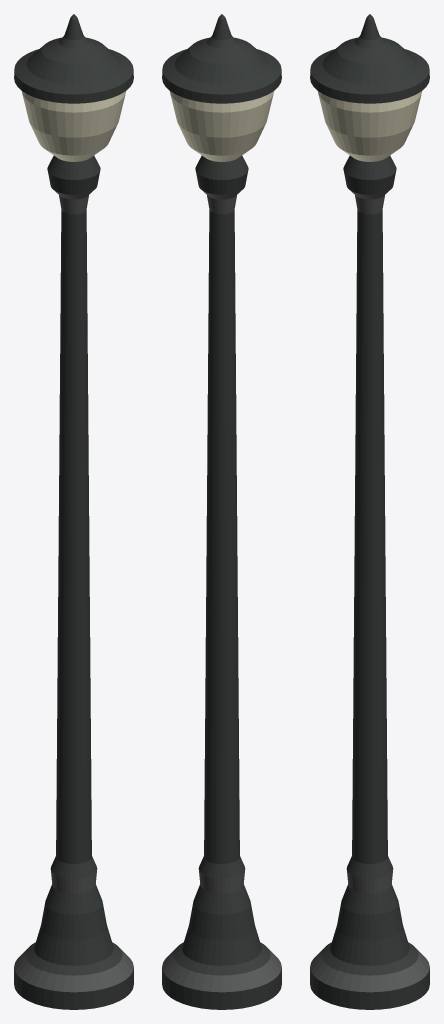
File: cast-lantern.glb
3 views of the same model, side by side, from view 1: azimuth 90°, elevation 25°; view 2: azimuth 150°, elevation 25°; view 3: azimuth 270°, elevation 25° (orthographic).
Size of the model in its own units: 0.54 by 4.83 by 0.54.
Materials: 1 (1 with a texture image).
